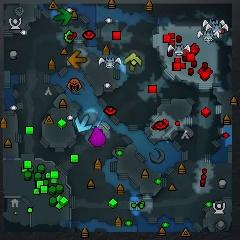p3: (90, 127, 106, 147)
x2: (125, 53, 142, 71)
x3: (75, 115, 92, 133)
x4: (53, 8, 71, 26)
x5: (68, 51, 87, 69)
